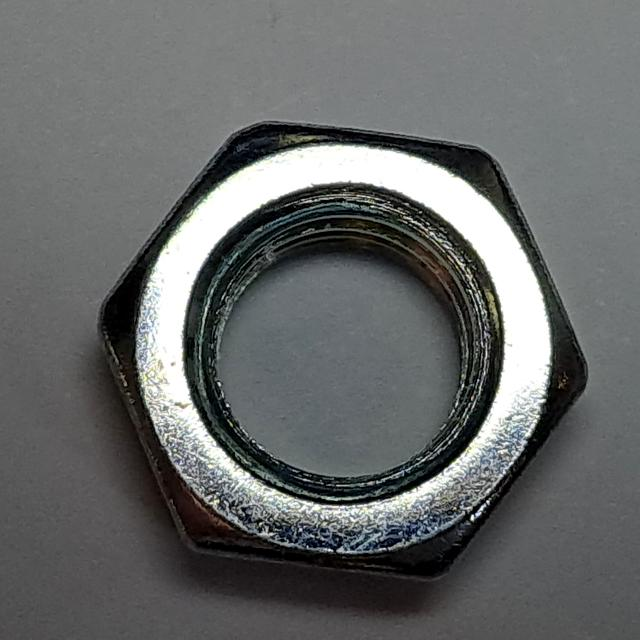Excellent: (83, 103, 601, 597)
